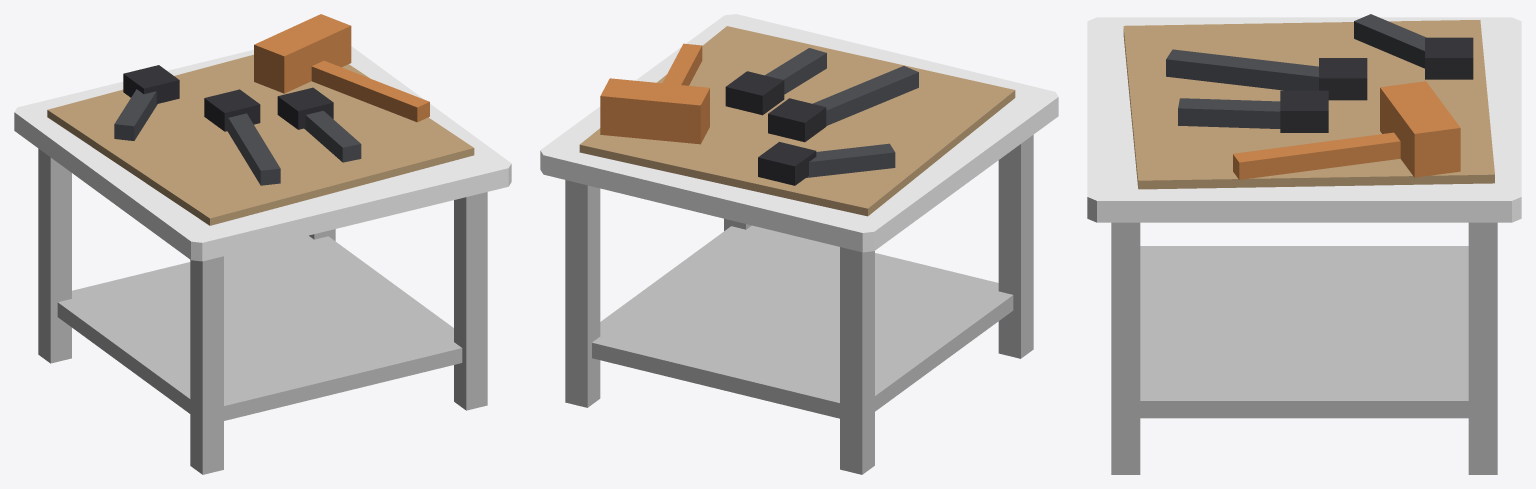
File: vfem2_art_tool_stand.obj
3 views of the same model, side by side, from view 1: azimuth 30°, elevation 25°; view 2: azimuth 150°, elevation 25°; view 3: azimuth 270°, elevation 25° (orthographic). The views are drawn at different scales.
Visible parts, largest first — view 1: vfem2_art_tool_stand; view 2: vfem2_art_tool_stand; view 3: vfem2_art_tool_stand.
Part boxes in pixels (x1=…): vfem2_art_tool_stand: x1=14, y1=14, x2=511, y2=474; vfem2_art_tool_stand: x1=540, y1=14, x2=1058, y2=474; vfem2_art_tool_stand: x1=1087, y1=14, x2=1521, y2=474.
Size of the model in its own units: 0.9 by 0.77 by 0.9.
